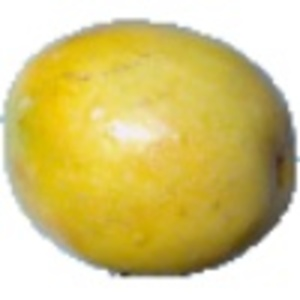maracujá: (1, 18, 300, 285)
